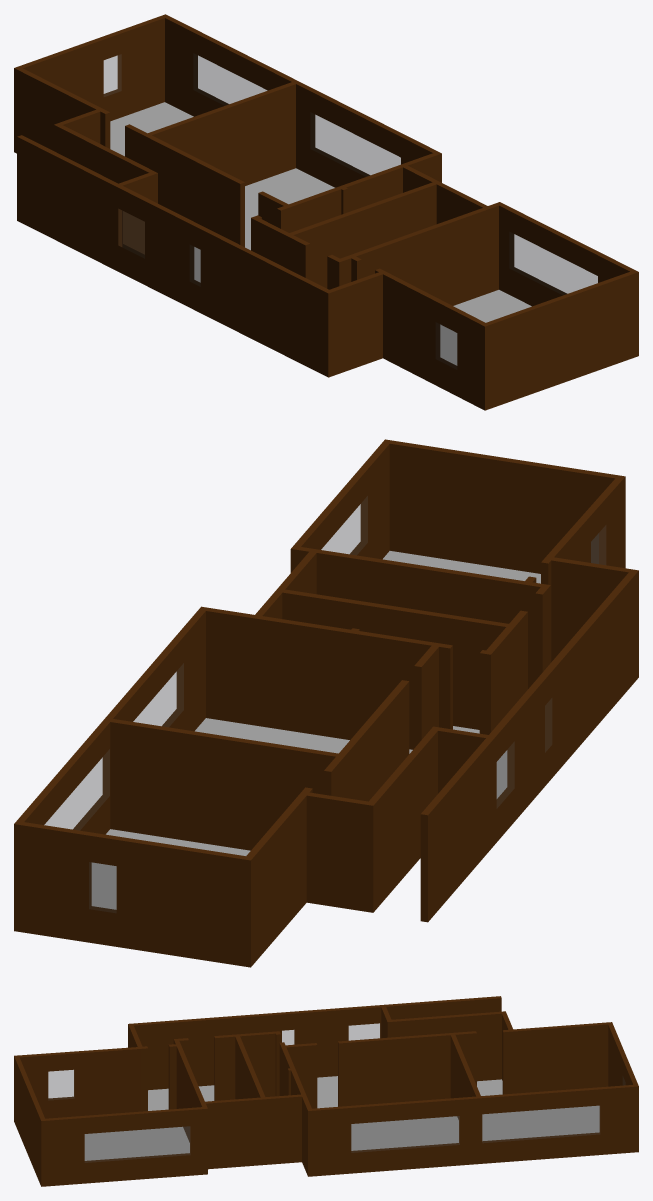
3 renders of one model, top to bottom at view 1: azimuth 30°, elevation 25°; view 2: azimuth 150°, elevation 25°; view 3: azimuth 270°, elevation 25°, orthographic. The views are drawn at different scales.
Visible parts, largest first — view 1: Plane.034, Plane.036; view 2: Plane.034, Plane.036; view 3: Plane.034, Plane.036.
Boxes of the visible parts, x1,y1,x2,y2 form: Plane.034: [14, 14, 638, 410]; Plane.036: [110, 102, 531, 365]; Plane.034: [14, 439, 638, 967]; Plane.036: [91, 551, 540, 909]; Plane.034: [14, 996, 638, 1186]; Plane.036: [84, 1076, 599, 1160].
Bounding box in the file's own units: 12.24 × 3 × 25.85.
